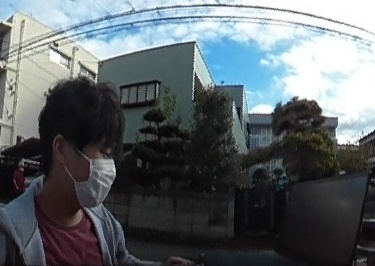person: (13, 160, 25, 192)
